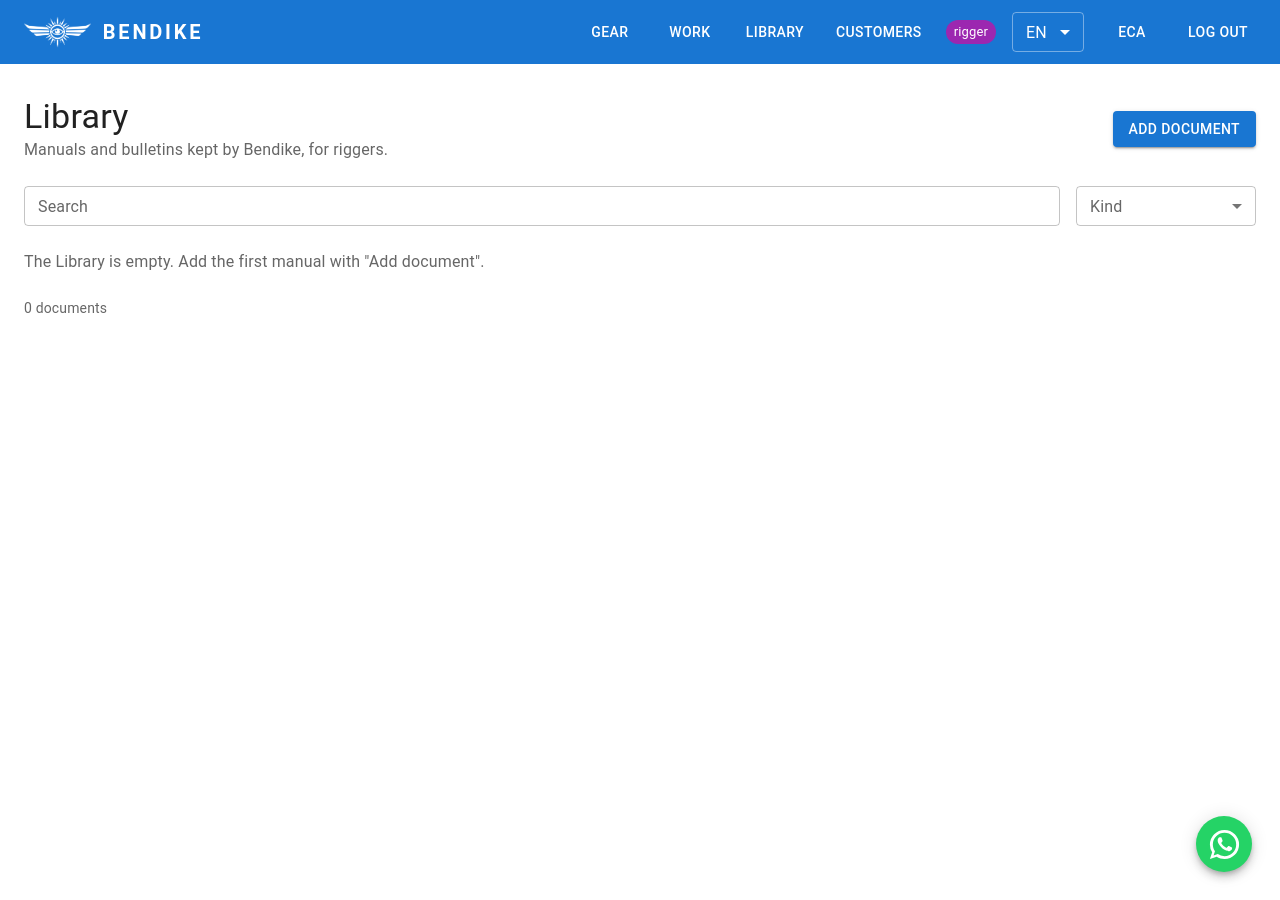
Test case: LibraryPage › says the Library is empty, and when a filter matches nothing
The image size is (1280, 900).
Expected: the text "The Library is empty" is shown, [24,252,484,271]
Type "zzz" into the field labelled "Search" at (542,206), box [24,186,1060,226]
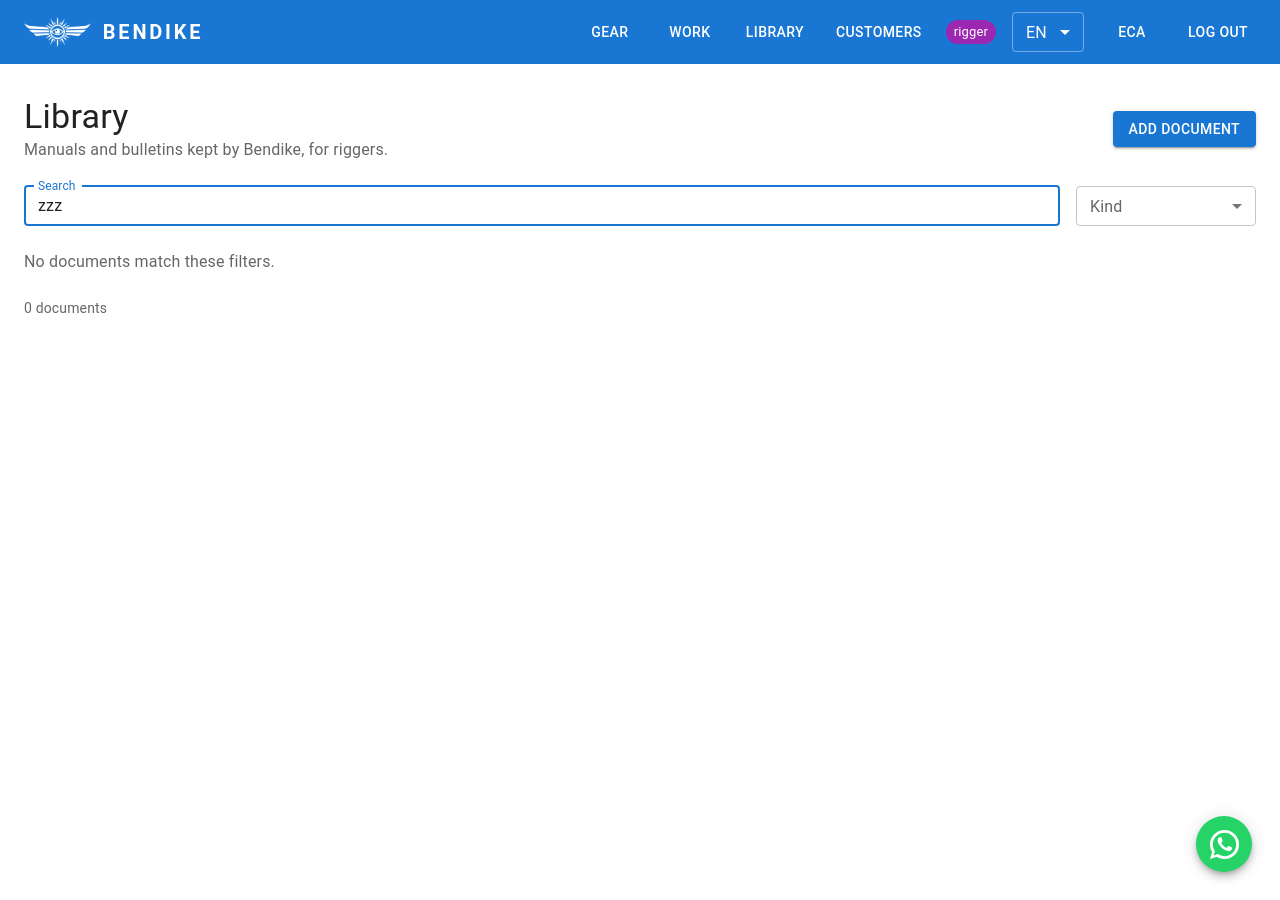
Now the text "No documents match these filters." is shown, box [24,252,275,271]
